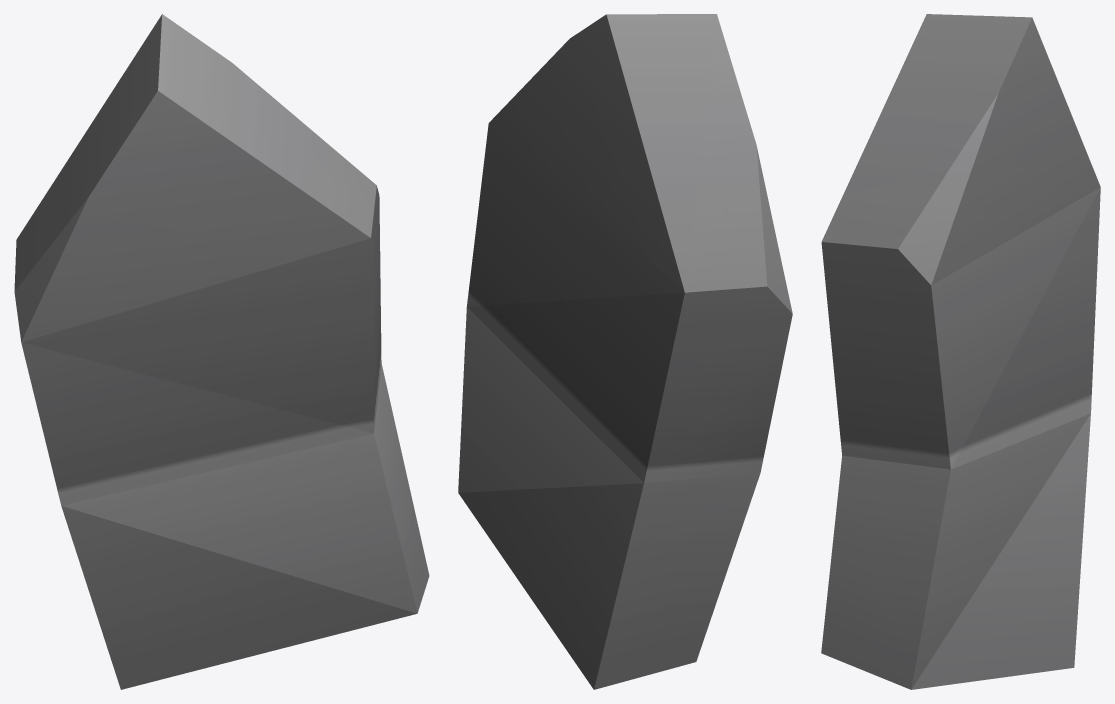
The model's file is ea_grave_stone_mini_01c_pre__30__lev1.glb.
The picture shows the model from 3 angles, left to right: view 1: azimuth 30°, elevation 25°; view 2: azimuth 150°, elevation 25°; view 3: azimuth 270°, elevation 25°; orthographic projection.
Parts seen in each view (by area): view 1: ea_grave_stone_mini_01c_pre__30__lev1; view 2: ea_grave_stone_mini_01c_pre__30__lev1; view 3: ea_grave_stone_mini_01c_pre__30__lev1.
Boxes of the visible parts, x1,y1,x2,y2 form: ea_grave_stone_mini_01c_pre__30__lev1: (14,14,429,689); ea_grave_stone_mini_01c_pre__30__lev1: (458,14,792,689); ea_grave_stone_mini_01c_pre__30__lev1: (821,14,1100,689).
Size of the model in its own units: 0.8005 by 1.35 by 0.5218.
Materials: 1 (1 with a texture image).
